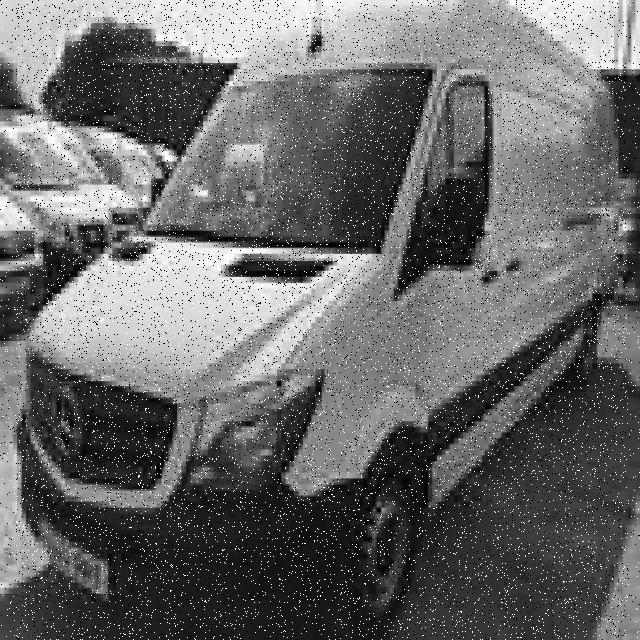Van: (16, 0, 626, 640)
